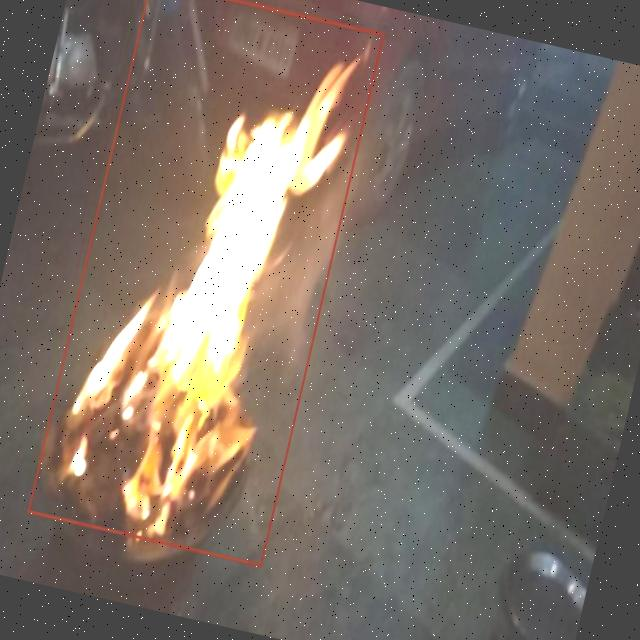fire: (27, 0, 384, 565)
